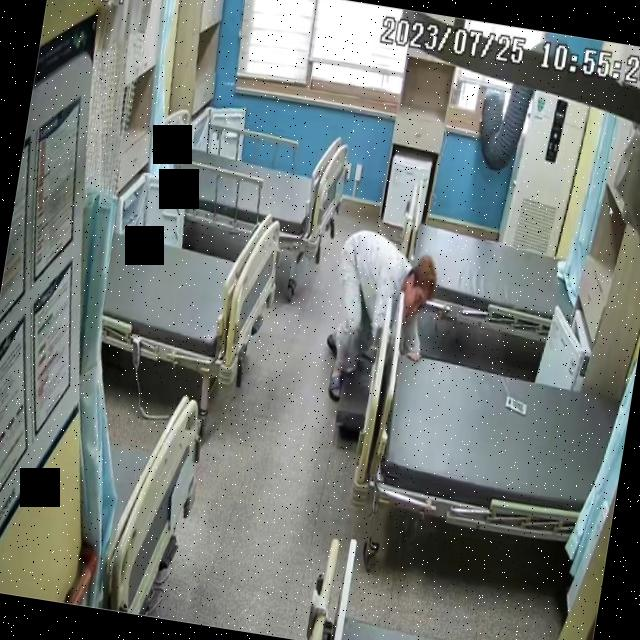bed: (368, 339, 626, 547), (92, 190, 290, 392), (148, 107, 350, 255), (390, 196, 588, 344)
danger: (317, 227, 445, 413)
patient: (317, 228, 445, 414)
